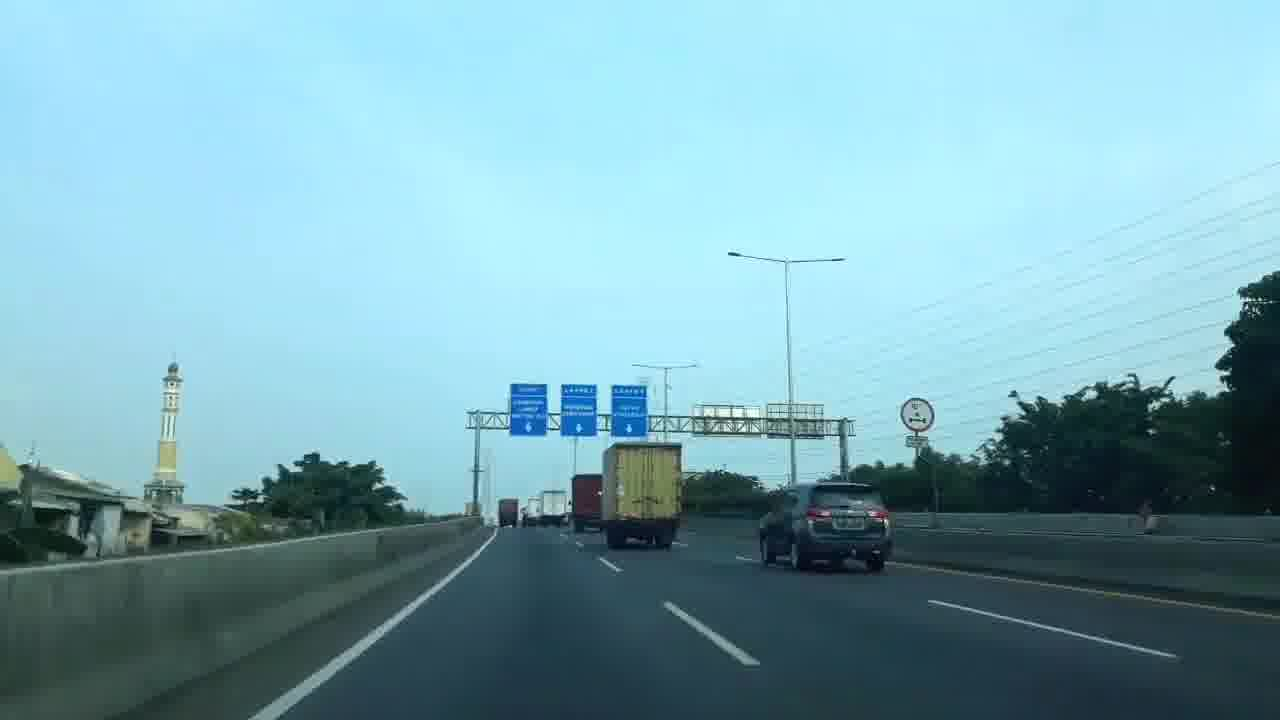plate_positive: (834, 517, 862, 527)
